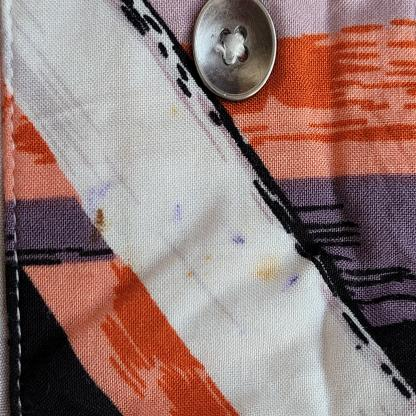spot: (86, 202, 106, 244), (258, 252, 279, 287), (284, 267, 302, 294), (186, 266, 216, 280), (230, 230, 249, 250), (172, 200, 185, 227), (202, 250, 218, 267), (168, 104, 180, 118)
